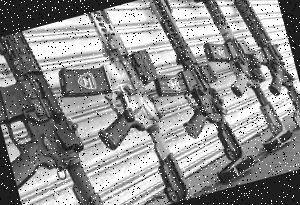rifle: (53, 8, 202, 205), (138, 0, 262, 182), (185, 0, 297, 156), (224, 0, 300, 131)
